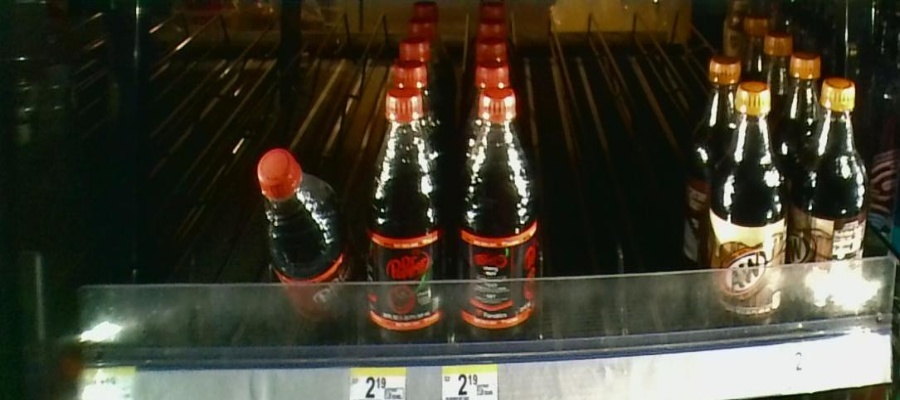bottle: (452, 85, 546, 343), (707, 74, 793, 330), (365, 83, 448, 347), (258, 138, 358, 345), (795, 74, 872, 333)
